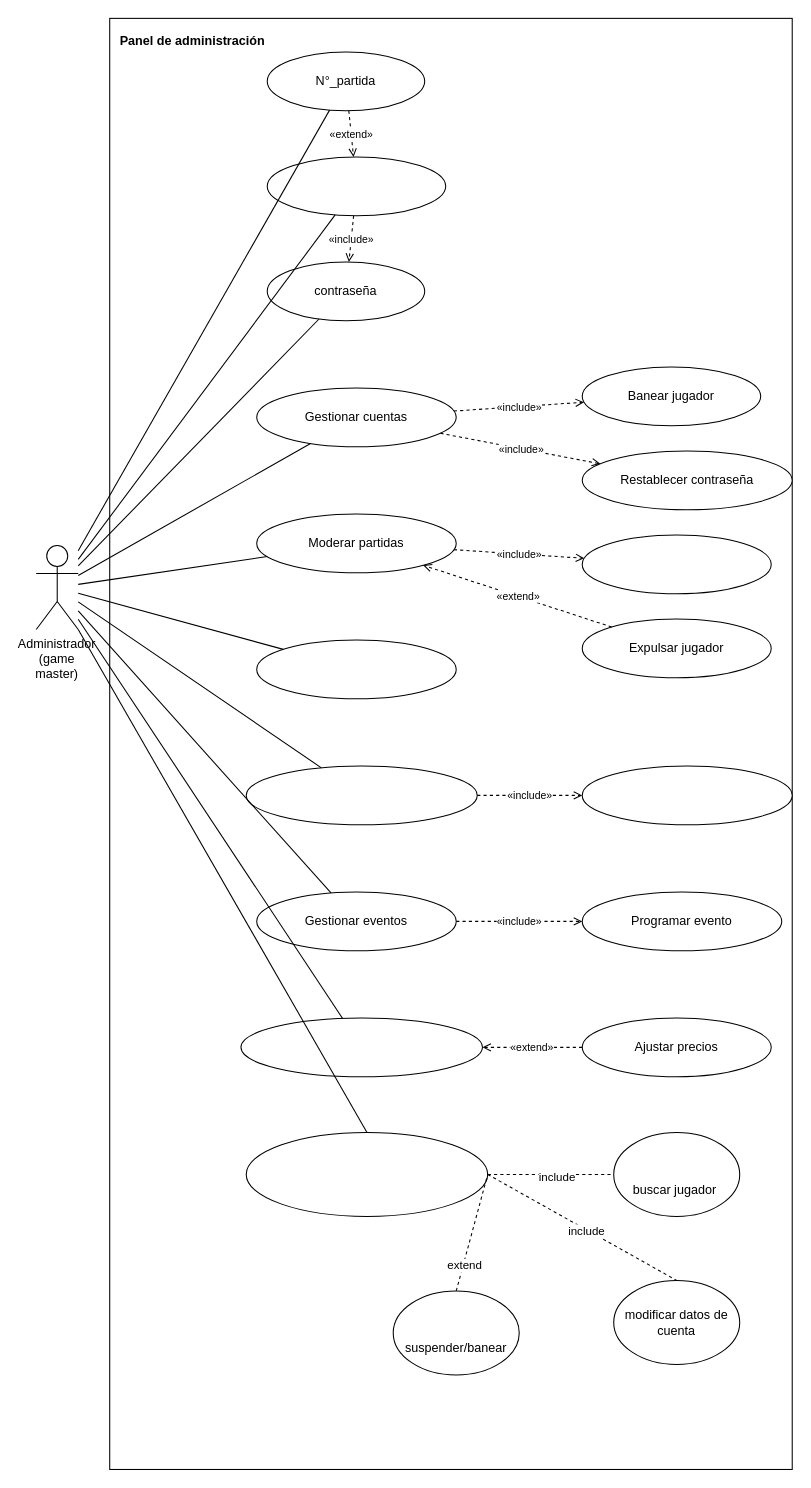
Image size: 811x1488. Some labels were removed from this diagram. Each missing label, with the centre of its shape:
Agregar/editar objeto: the point at 686,795
Alterar jugador: the point at 366,1173
Balancear economía del juego: the point at 361,1047
Configurar servidor: the point at 356,669
Gestionar objetos del juego: the point at 361,795
iniciar cuenta: the point at 356,186
Revisar reportes: the point at 676,564
